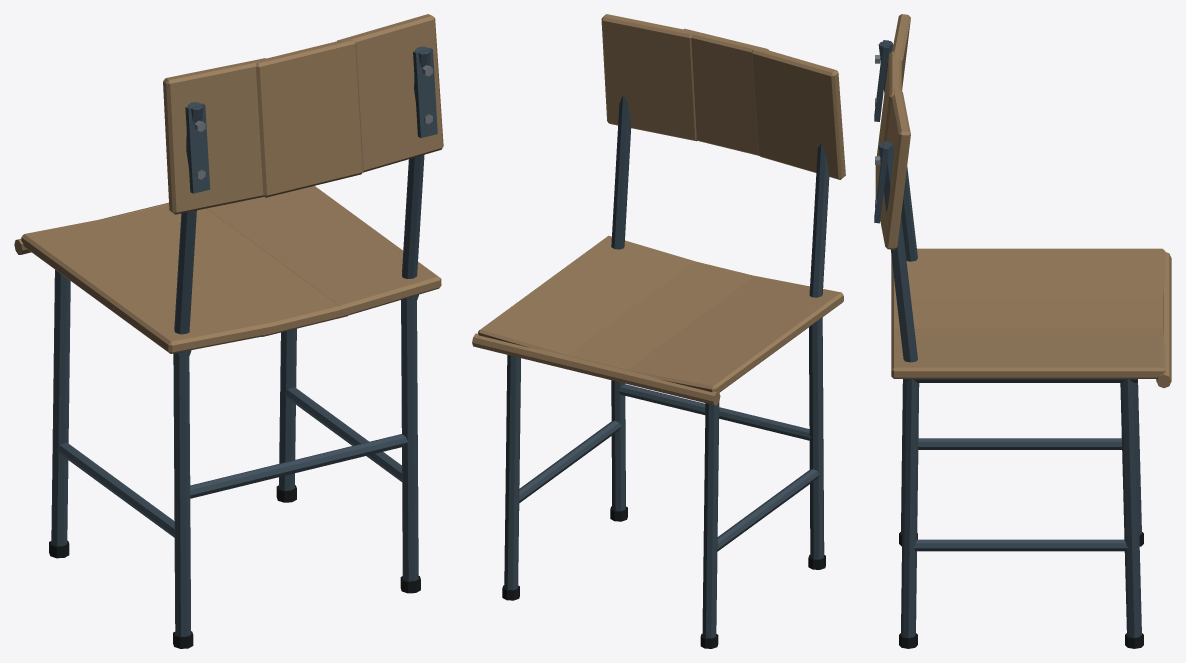
Rendered from prop_school_chair_unit.glb.
The picture shows the model from 3 angles, left to right: view 1: azimuth 30°, elevation 25°; view 2: azimuth 150°, elevation 25°; view 3: azimuth 270°, elevation 25°; orthographic projection. The views are drawn at different scales.
Visible parts, largest first — view 1: prop_school_chair_unit; view 2: prop_school_chair_unit; view 3: prop_school_chair_unit.
Part boxes in pixels (x1,y1,x2,y2): prop_school_chair_unit: (14,14,443,648); prop_school_chair_unit: (472,14,845,648); prop_school_chair_unit: (874,14,1171,648).
Size of the model in its own units: 0.426 by 0.84 by 0.4336.
